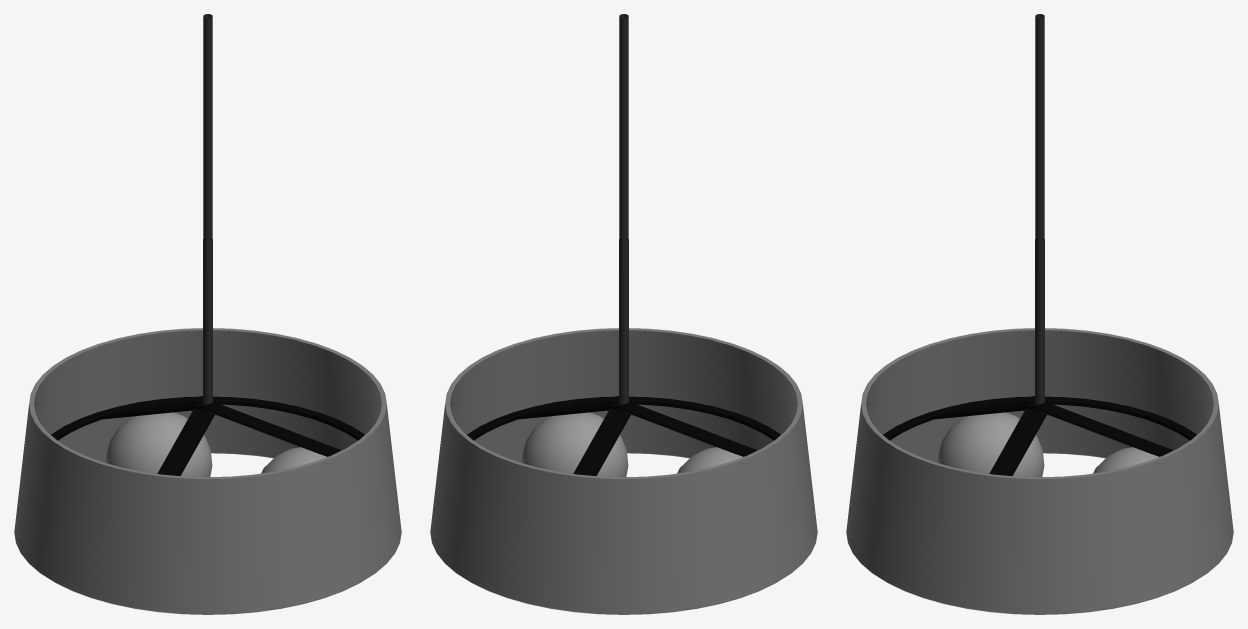
The model's file is HangingLightFixture-Wide.FBX.
The picture shows the model from 3 angles, left to right: view 1: azimuth 30°, elevation 25°; view 2: azimuth 150°, elevation 25°; view 3: azimuth 270°, elevation 25°; orthographic projection.
Parts seen in each view (by area): view 1: Light Fixture - Hanging Wide; view 2: Light Fixture - Hanging Wide; view 3: Light Fixture - Hanging Wide.
Boxes of the visible parts, bbox=[...] form: Light Fixture - Hanging Wide: bbox=[14, 14, 401, 614]; Light Fixture - Hanging Wide: bbox=[430, 14, 817, 614]; Light Fixture - Hanging Wide: bbox=[846, 14, 1233, 614].
Size of the model in its own units: 0.9881 by 0.9881 by 1.5.
2 materials, 1 textured.
